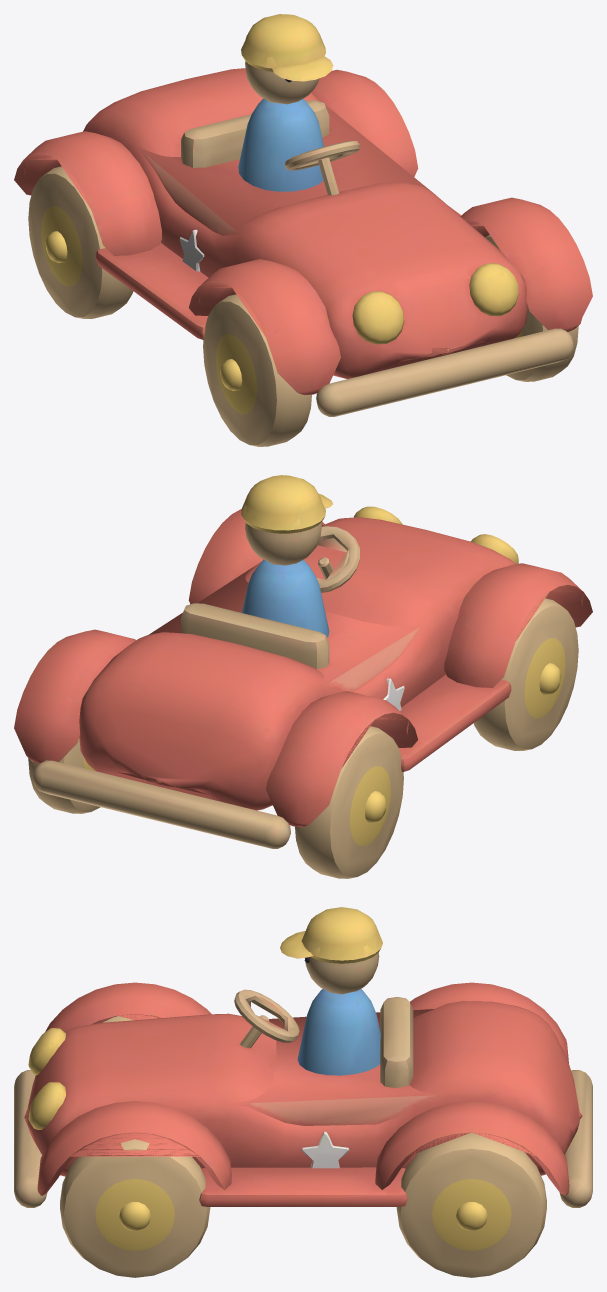
The model's file is g3d_toy_car.glb.
3 views of the same model, one above another, from view 1: azimuth 30°, elevation 25°; view 2: azimuth 150°, elevation 25°; view 3: azimuth 270°, elevation 25° (orthographic). The views are drawn at different scales.
Visible parts, largest first — view 1: toy-car_body, toy-car_wheel_front_l, toy-car_body_lo; view 2: toy-car_body, toy-car_wheel_front_l, toy-car_body_lo; view 3: toy-car_body, toy-car_wheel_front_l, toy-car_body_lo.
Part boxes in pixels (box(x1,y1,x2,y2)): toy-car_body: box(14, 14, 592, 416); toy-car_wheel_front_l: box(28, 166, 578, 446); toy-car_body_lo: box(23, 41, 511, 360); toy-car_body: box(14, 475, 592, 848); toy-car_wheel_front_l: box(28, 598, 578, 878); toy-car_body_lo: box(116, 502, 583, 794); toy-car_body: box(14, 907, 592, 1207); toy-car_wheel_front_l: box(60, 1016, 546, 1277); toy-car_body_lo: box(24, 945, 548, 1192).
Size of the model in its own units: 0.1018 by 0.0897 by 0.1582.
3 materials, 1 textured.
